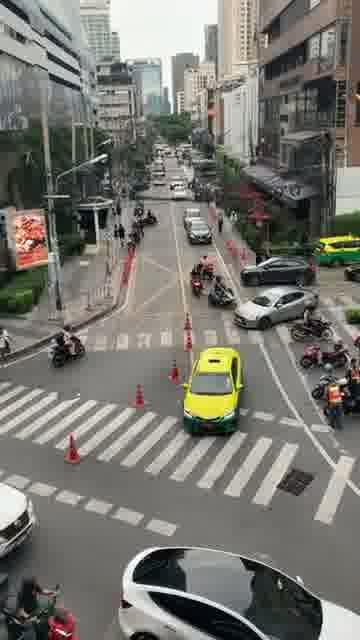bike: (0, 583, 80, 639), (310, 361, 357, 399), (299, 335, 350, 368), (287, 311, 333, 342), (47, 333, 85, 368), (325, 378, 359, 416), (207, 286, 236, 309), (192, 262, 214, 281), (191, 271, 202, 296)
car: (116, 543, 360, 640), (178, 346, 248, 436), (232, 285, 319, 330), (0, 480, 40, 558), (240, 253, 316, 287), (311, 234, 360, 267), (188, 216, 215, 243), (182, 206, 200, 229), (173, 184, 186, 200)
pedestrian: (326, 377, 343, 432), (0, 326, 11, 364), (229, 210, 237, 232), (118, 223, 125, 247), (216, 210, 223, 233), (113, 223, 119, 244), (116, 204, 121, 223), (111, 206, 116, 224)
